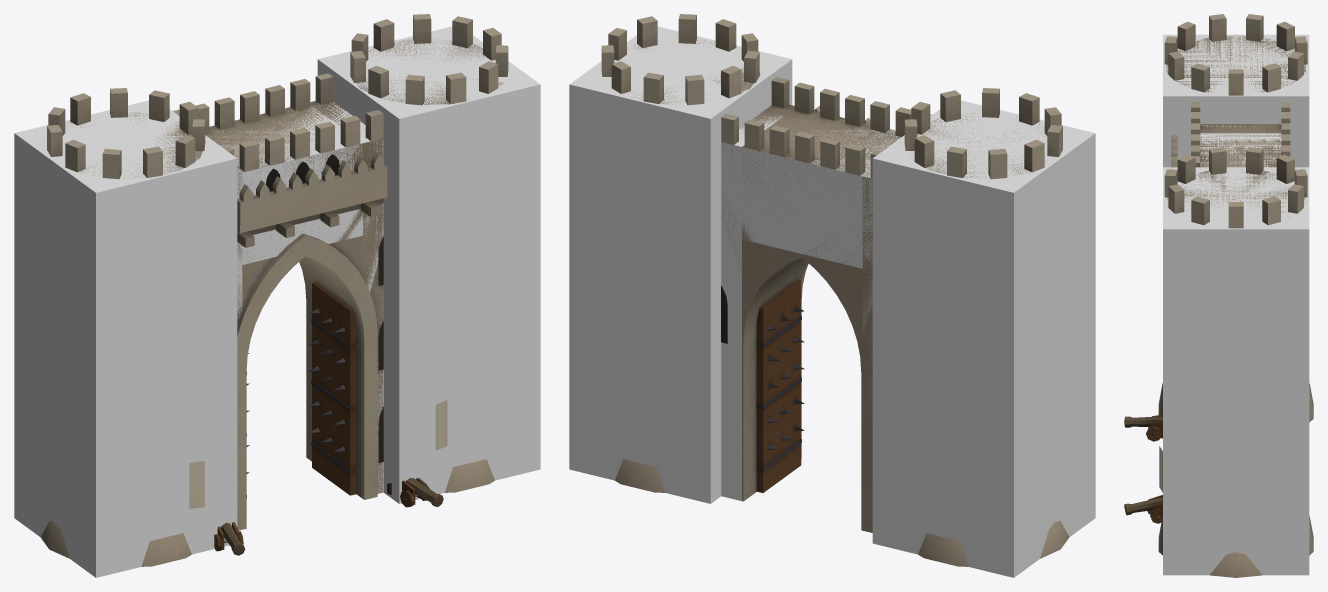
File: golconda_fort_gate.glb
3 renders of one model, left to right at view 1: azimuth 30°, elevation 25°; view 2: azimuth 150°, elevation 25°; view 3: azimuth 270°, elevation 25°, orthographic. The views are drawn at different scales.
Parts seen in each view (by area): view 1: COL_gate_bastion0, COL_gate_bastion1, golconda_fort_gate_body, COL_gate_top, COL_gate_pier1; view 2: COL_gate_bastion0, COL_gate_bastion1, golconda_fort_gate_body, COL_gate_top, COL_gate_pier1, COL_gate_pier0; view 3: COL_gate_bastion1, golconda_fort_gate_body, COL_gate_bastion0, COL_gate_top.
Part boxes in pixels (bbox=[...]): COL_gate_bastion0: bbox=[14, 100, 237, 577]; COL_gate_bastion1: bbox=[317, 26, 540, 503]; golconda_fort_gate_body: bbox=[40, 14, 508, 566]; COL_gate_top: bbox=[212, 106, 362, 264]; COL_gate_pier1: bbox=[318, 102, 383, 493]; COL_gate_bastion0: bbox=[872, 100, 1095, 577]; COL_gate_bastion1: bbox=[569, 26, 792, 503]; golconda_fort_gate_body: bbox=[601, 14, 1069, 566]; COL_gate_top: bbox=[742, 115, 900, 268]; COL_gate_pier1: bbox=[721, 114, 782, 500]; COL_gate_pier0: bbox=[862, 171, 872, 394]; COL_gate_bastion1: bbox=[1163, 167, 1309, 575]; golconda_fort_gate_body: bbox=[1124, 14, 1313, 577]; COL_gate_bastion0: bbox=[1163, 34, 1309, 167]; COL_gate_top: bbox=[1200, 133, 1281, 167].
Size of the model in its own units: 62 by 53.15 by 24.78.
2 materials, 1 textured.
